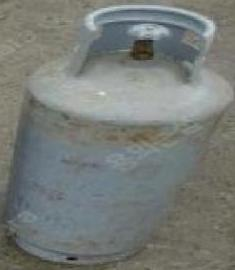cylinder: (1, 1, 235, 270)
